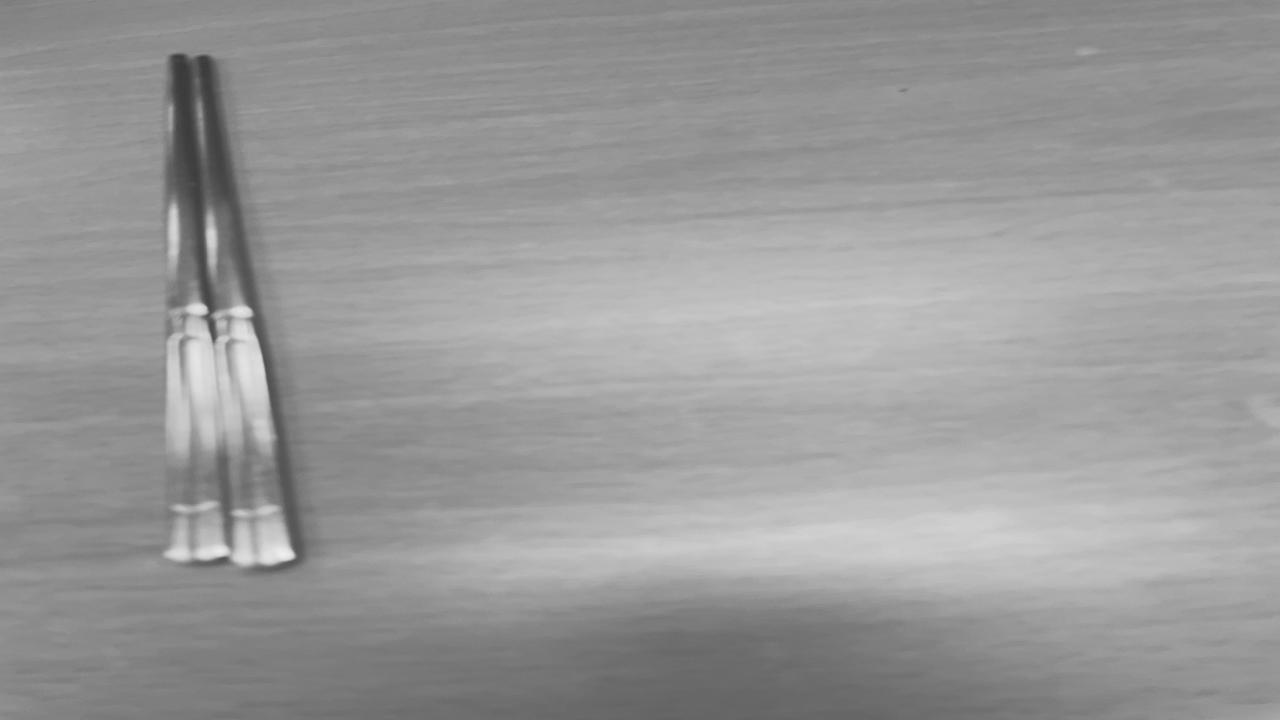chopstick: (167, 54, 301, 566)
